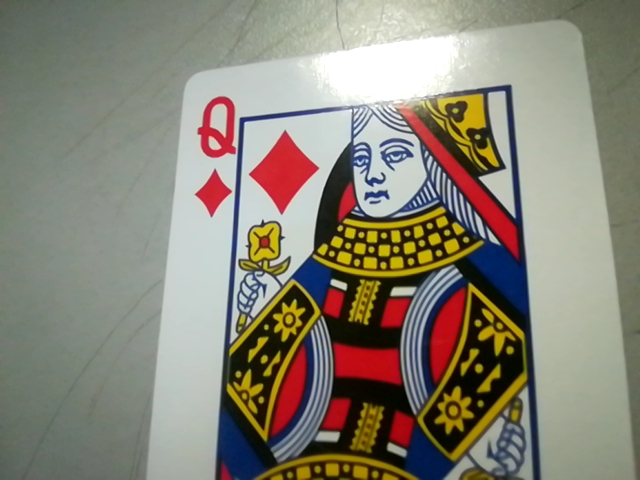fk q: (183, 92, 244, 218)
